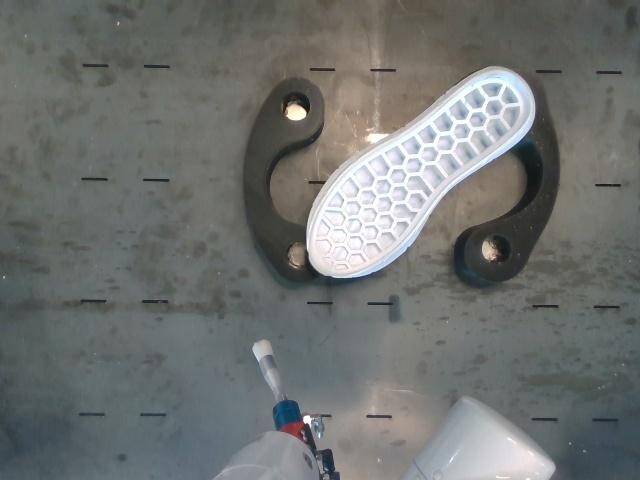shoes: (309, 70, 531, 276)
